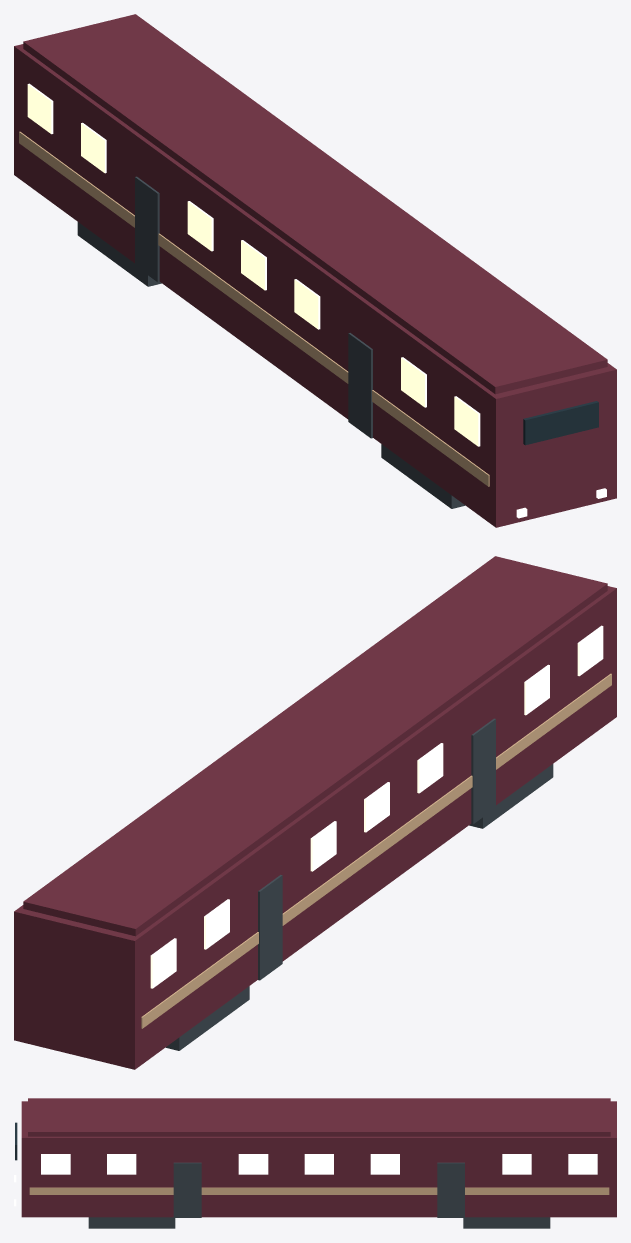
File: private-cab.glb
The picture shows the model from 3 angles, top to bottom: view 1: azimuth 30°, elevation 25°; view 2: azimuth 150°, elevation 25°; view 3: azimuth 270°, elevation 25°; orthographic projection. The views are drawn at different scales.
Size of the model in its own units: 2.88 by 3.5 by 19.45.
